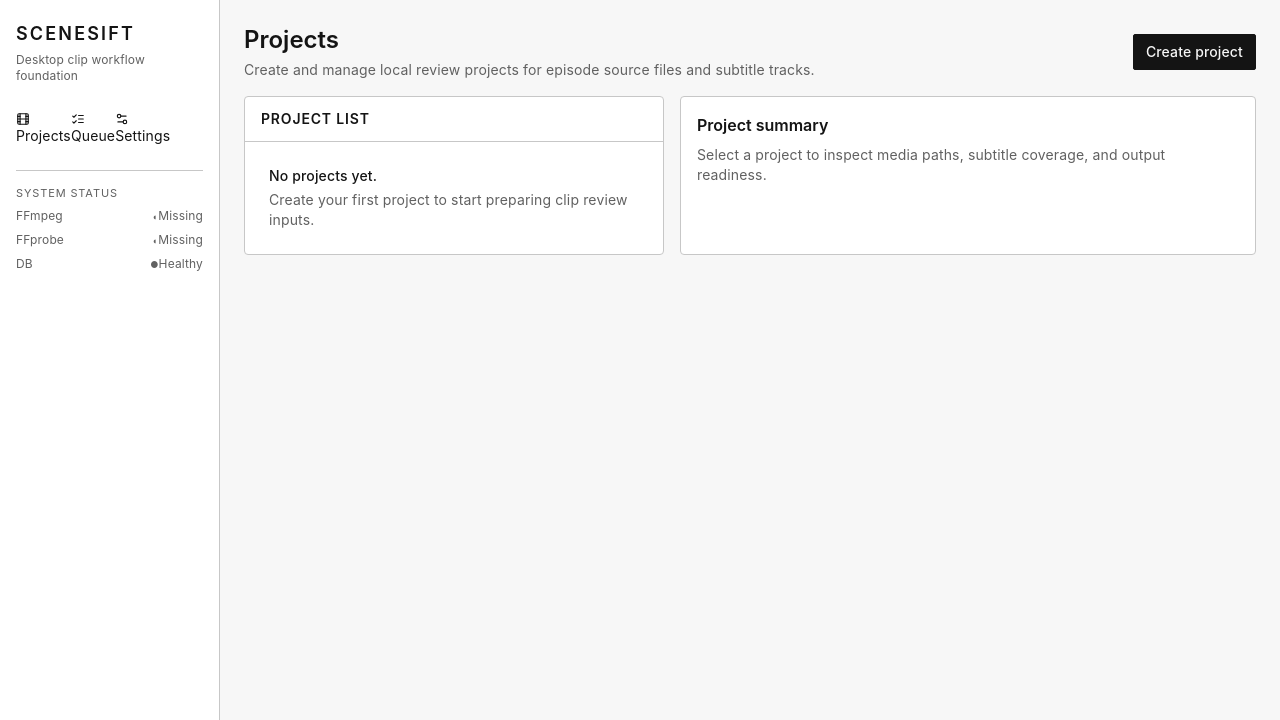
Test: renderer shell › navigates between pages
Click the button "Queue": (93, 129) [71,112,115,146]
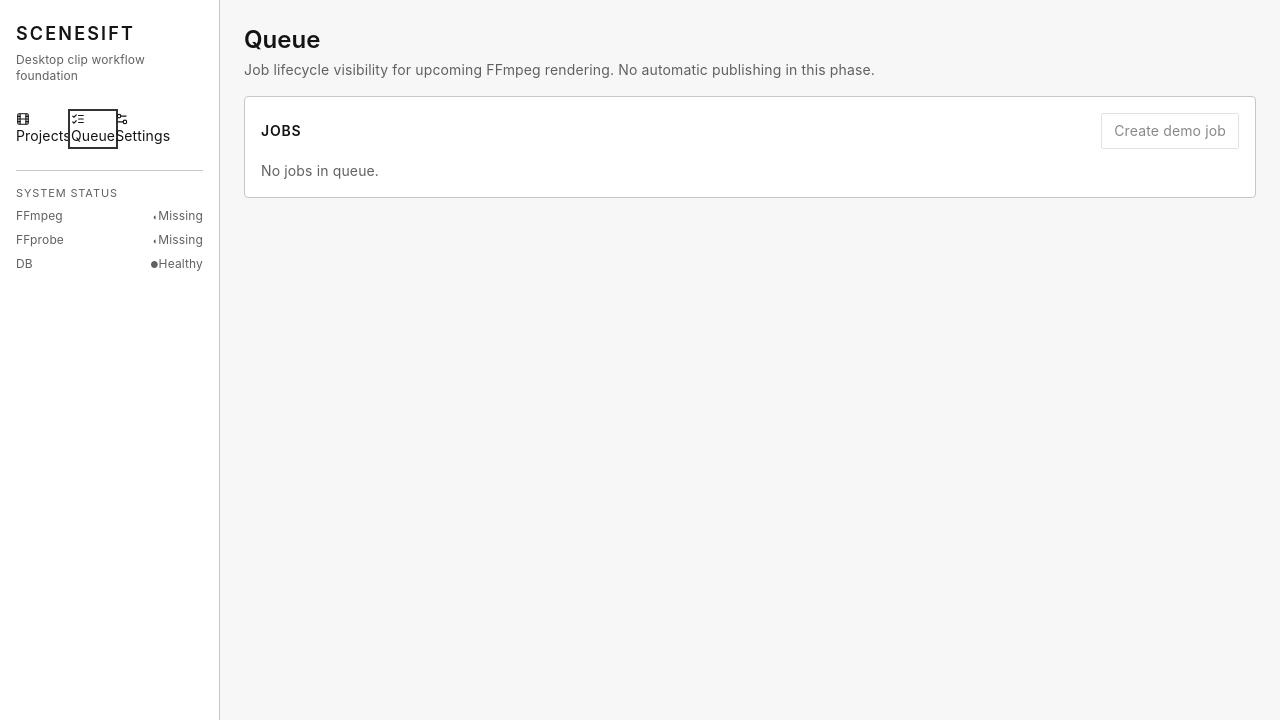
Result: the heading "Queue" is shown at [244,25,320,54]
Click the button "Settings": (143, 129) [115,112,170,146]
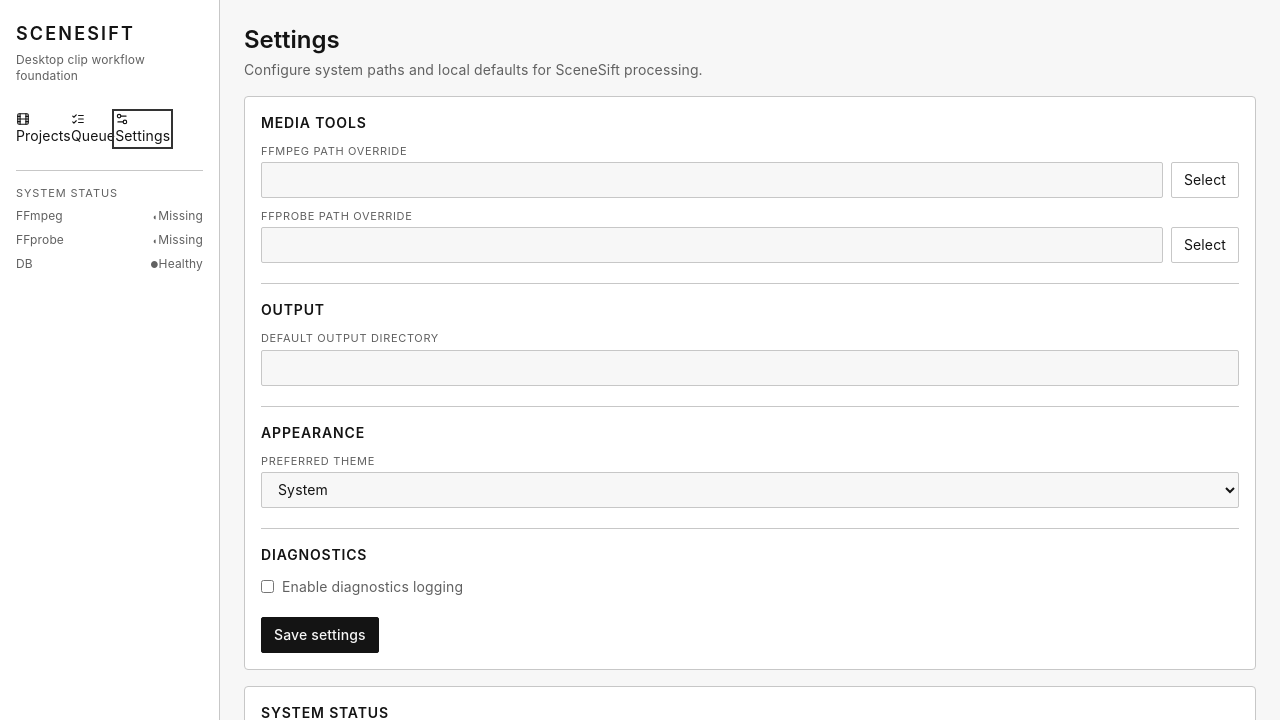
Result: the heading "Settings" is shown at [244,25,340,54]
